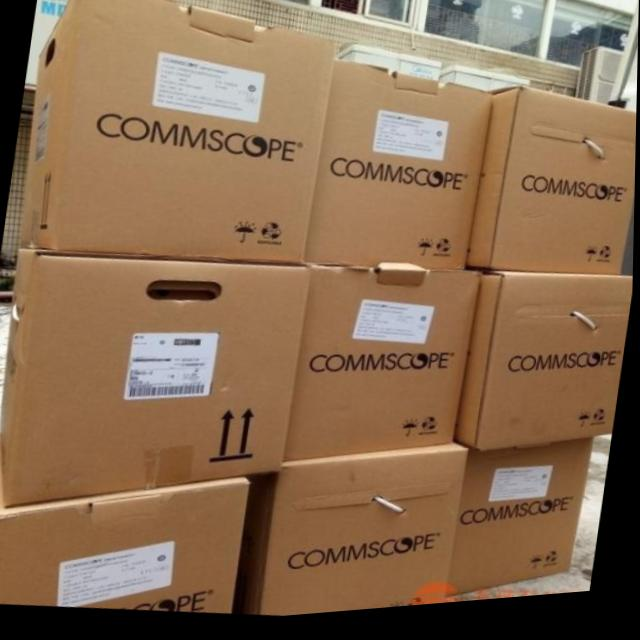box: (16, 0, 338, 267), (0, 249, 312, 505), (0, 453, 250, 616), (306, 65, 493, 277), (287, 267, 482, 466), (239, 453, 470, 620), (470, 95, 637, 284), (459, 278, 634, 457), (450, 448, 595, 605), (337, 50, 441, 86), (437, 73, 530, 102)
